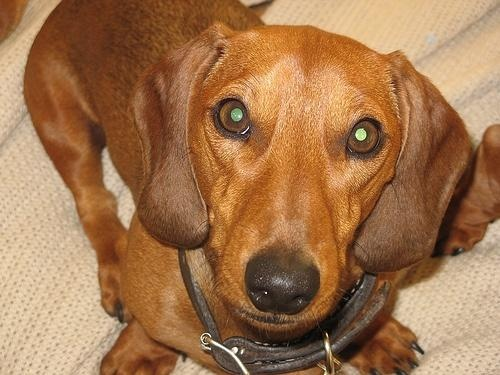dog: (21, 1, 500, 374)
